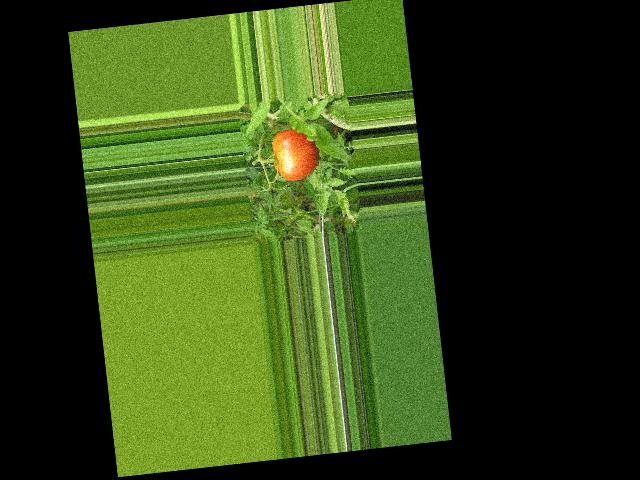tomato: (270, 127, 320, 182)
